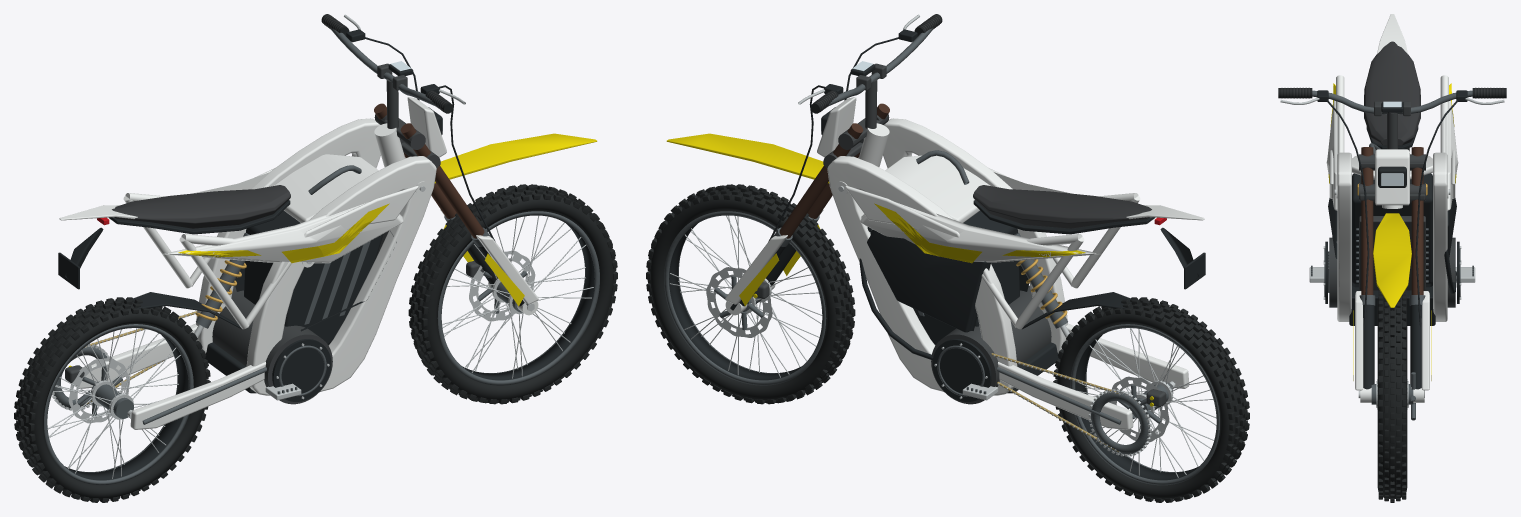
Rendered from sur-ron-storm-bee.glb.
3 views of the same model, side by side, from view 1: azimuth 30°, elevation 25°; view 2: azimuth 150°, elevation 25°; view 3: azimuth 270°, elevation 25° (orthographic). The views are drawn at different scales.
Visible parts, largest first — view 1: Chassis | Printed white graphics, FrontWheel | Offroad tyre rubber, RearWheel | Offroad tyre rubber, Bodywork | Printed white graphics, RearSuspension | Printed white graphics, BatteryMount | Satin black polymer, Bodywork | Grained charcoal saddle, Bodywork | Model accent, FrontWheel | Machined satin aluminium, RearWheel | Machined satin aluminium, RearWheel | Anodized gunmetal, Bodywork | Satin black polymer (+14 smaller); view 2: Chassis | Printed white graphics, FrontWheel | Offroad tyre rubber, RearWheel | Offroad tyre rubber, Bodywork | Satin black polymer, Bodywork | Printed white graphics, RearSuspension | Printed white graphics, Bodywork | Grained charcoal saddle, Bodywork | Model accent, MotorMount | Satin black polymer, FrontWheel | Machined satin aluminium, BatteryMount | Printed white graphics, RearWheel | Machined satin aluminium (+17 smaller); view 3: FrontWheel | Offroad tyre rubber, Chassis | Printed white graphics, Bodywork | Grained charcoal saddle, Bodywork | Printed white graphics, Bodywork | Model accent, Fork | Bronze fork tubes, BatteryMount | Satin black polymer, Fork | Printed white graphics, Cockpit | Satin black polymer, Fork | Satin black polymer, MotorMount | Satin black polymer, RearSuspension | Printed white graphics (+13 smaller).
Part boxes in pixels (x1,y1,x2,y2): Chassis | Printed white graphics: (196,118,436,395); FrontWheel | Offroad tyre rubber: (408,184,617,404); RearWheel | Offroad tyre rubber: (14,297,210,502); Bodywork | Printed white graphics: (59,97,446,263); RearSuspension | Printed white graphics: (75,193,291,429); BatteryMount | Satin black polymer: (244,210,383,344); Bodywork | Grained charcoal saddle: (112,185,290,228); Bodywork | Model accent: (178,133,597,263); FrontWheel | Machined satin aluminium: (442,215,593,378); RearWheel | Machined satin aluminium: (47,328,180,478); RearWheel | Anodized gunmetal: (44,324,193,485); Bodywork | Satin black polymer: (58,200,396,331); Chassis | Printed white graphics: (827,118,1067,395); FrontWheel | Offroad tyre rubber: (646,184,855,404); RearWheel | Offroad tyre rubber: (1053,297,1249,502); Bodywork | Satin black polymer: (867,200,1205,332); Bodywork | Printed white graphics: (817,97,1204,262); RearSuspension | Printed white graphics: (981,193,1189,429); Bodywork | Grained charcoal saddle: (973,185,1151,228); Bodywork | Model accent: (666,133,1085,263); MotorMount | Satin black polymer: (859,227,1059,401); FrontWheel | Machined satin aluminium: (670,215,822,377); BatteryMount | Printed white graphics: (885,155,990,222); RearWheel | Machined satin aluminium: (1076,328,1216,477); FrontWheel | Offroad tyre rubber: (1377,289,1407,502); Chassis | Printed white graphics: (1336,152,1448,321); Bodywork | Grained charcoal saddle: (1364,41,1420,145); Bodywork | Printed white graphics: (1326,14,1458,210); Bodywork | Model accent: (1328,83,1456,307); Fork | Bronze fork tubes: (1361,147,1423,294); BatteryMount | Satin black polymer: (1352,173,1432,287); Fork | Printed white graphics: (1355,291,1429,402); Cockpit | Satin black polymer: (1317,90,1467,329); Fork | Satin black polymer: (1363,304,1424,397); MotorMount | Satin black polymer: (1325,241,1459,325); RearSuspension | Printed white graphics: (1336,75,1448,152).
Bounding box in the file's own units: 2.12 × 1.27 × 0.756.
